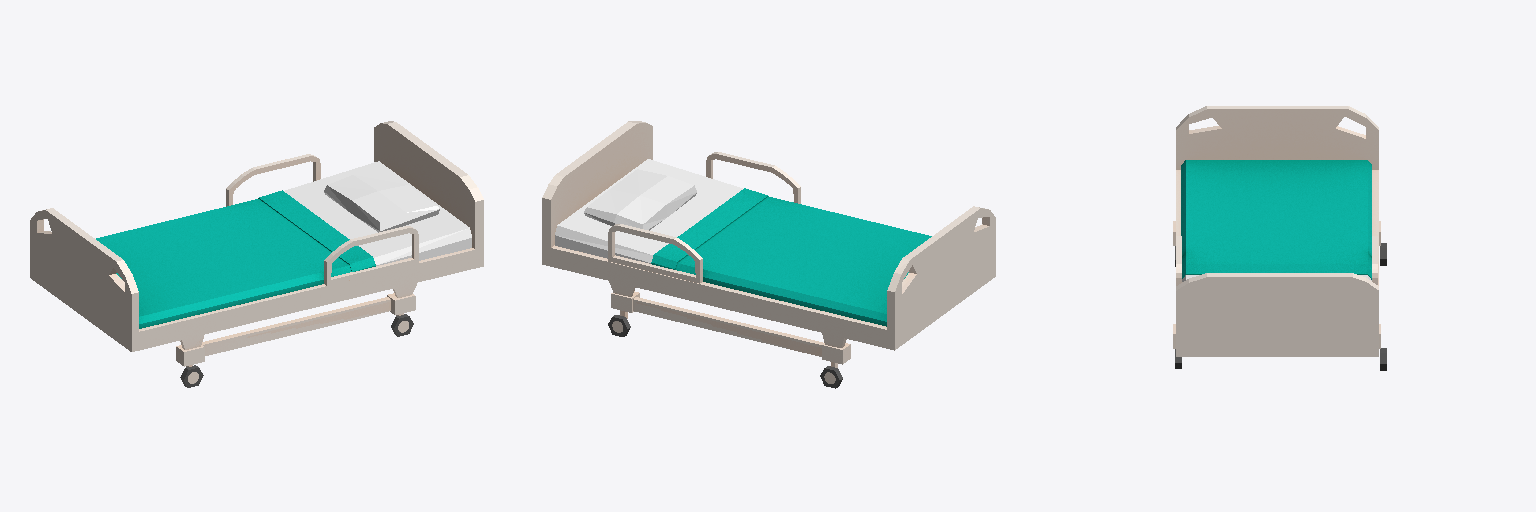
The picture shows the model from 3 angles: view 1: azimuth 30°, elevation 25°; view 2: azimuth 150°, elevation 25°; view 3: azimuth 270°, elevation 25°; orthographic projection.
Parts seen in each view (by area): view 1: Cube.008_Cube.000, Cube.008_Cube.010, Cylinder.000; view 2: Cube.008_Cube.000, Cube.008_Cube.010, Cylinder.000; view 3: Cube.008_Cube.010, Cube.008_Cube.000.
Part boxes in pixels (left/top/right/bottom): Cube.008_Cube.000: left=96, top=161, right=471, bottom=328; Cube.008_Cube.010: left=30, top=121, right=483, bottom=366; Cylinder.000: left=180, top=314, right=413, bottom=387; Cube.008_Cube.000: left=555, top=159, right=931, bottom=326; Cube.008_Cube.010: left=542, top=121, right=995, bottom=367; Cylinder.000: left=608, top=315, right=842, bottom=388; Cube.008_Cube.010: left=1173, top=106, right=1380, bottom=356; Cube.008_Cube.000: left=1181, top=160, right=1371, bottom=281.
Size of the model in its own units: 7.38 by 2.59 by 3.88.
Materials: 3 (3 with a texture image).